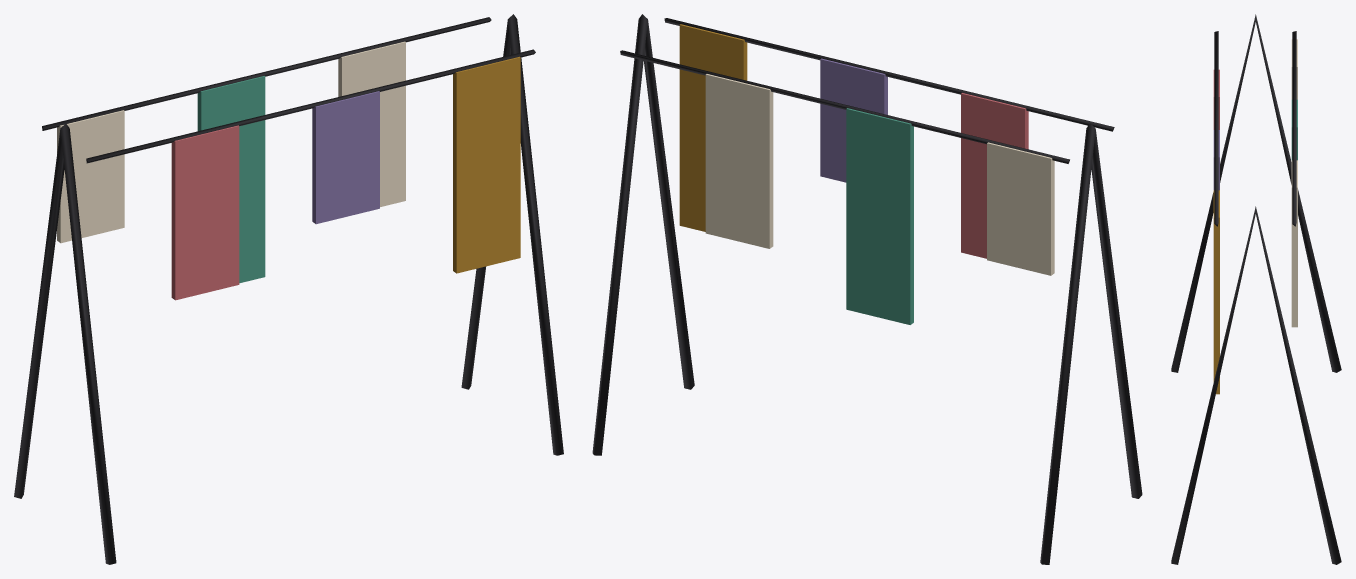
The model's file is city_laundry.glb.
3 views of the same model, side by side, from view 1: azimuth 30°, elevation 25°; view 2: azimuth 150°, elevation 25°; view 3: azimuth 270°, elevation 25° (orthographic). The views are drawn at different scales.
Visible parts, largest first — view 1: CityLaundry_Cloth5, CityLaundry_Cloth1, CityLaundry_Leg-0.7, CityLaundry_Cloth3, CityLaundry_Cloth2, CityLaundry_Cloth0, CityLaundry_Cloth4, CityLaundry_Leg0.7, CityLaundry_Line0, CityLaundry_Line1; view 2: CityLaundry_Cloth2, CityLaundry_Cloth4, CityLaundry_Leg-0.7, CityLaundry_Leg0.7, CityLaundry_Cloth0, CityLaundry_Cloth5, CityLaundry_Cloth1, CityLaundry_Cloth3, CityLaundry_Line1, CityLaundry_Line0; view 3: CityLaundry_Leg0.7, CityLaundry_Leg-0.7, CityLaundry_Cloth5, CityLaundry_Cloth4, CityLaundry_Line0, CityLaundry_Line1, CityLaundry_Cloth0, CityLaundry_Cloth2, CityLaundry_Cloth1, CityLaundry_Cloth3.
Part boxes in pixels (x1,y1,x2,y2): CityLaundry_Cloth5: [453, 56, 520, 273]; CityLaundry_Cloth1: [171, 125, 239, 300]; CityLaundry_Leg-0.7: [14, 123, 116, 564]; CityLaundry_Cloth3: [312, 91, 379, 224]; CityLaundry_Cloth2: [197, 76, 265, 283]; CityLaundry_Cloth0: [57, 110, 124, 243]; CityLaundry_Cloth4: [338, 41, 405, 206]; CityLaundry_Leg0.7: [461, 14, 563, 455]; CityLaundry_Line0: [86, 49, 535, 163]; CityLaundry_Line1: [42, 17, 491, 130]; CityLaundry_Cloth2: [846, 108, 913, 324]; CityLaundry_Cloth4: [705, 74, 773, 248]; CityLaundry_Leg-0.7: [1040, 123, 1142, 564]; CityLaundry_Leg0.7: [592, 14, 694, 455]; CityLaundry_Cloth0: [987, 142, 1054, 275]; CityLaundry_Cloth5: [679, 24, 747, 231]; CityLaundry_Cloth1: [961, 93, 1028, 258]; CityLaundry_Cloth3: [820, 58, 887, 182]; CityLaundry_Line1: [620, 50, 1069, 163]; CityLaundry_Line0: [664, 18, 1114, 131]; CityLaundry_Leg0.7: [1171, 206, 1341, 564]; CityLaundry_Leg-0.7: [1171, 14, 1341, 372]; CityLaundry_Cloth5: [1213, 190, 1219, 394]; CityLaundry_Cloth4: [1291, 160, 1297, 327]; CityLaundry_Line0: [1214, 31, 1218, 226]; CityLaundry_Line1: [1292, 31, 1296, 226]; CityLaundry_Cloth0: [1291, 39, 1297, 99]; CityLaundry_Cloth2: [1291, 99, 1297, 160]; CityLaundry_Cloth1: [1213, 69, 1219, 129]; CityLaundry_Cloth3: [1213, 130, 1219, 190].
Size of the model in its own units: 1.43 by 1.22 by 0.5252.
